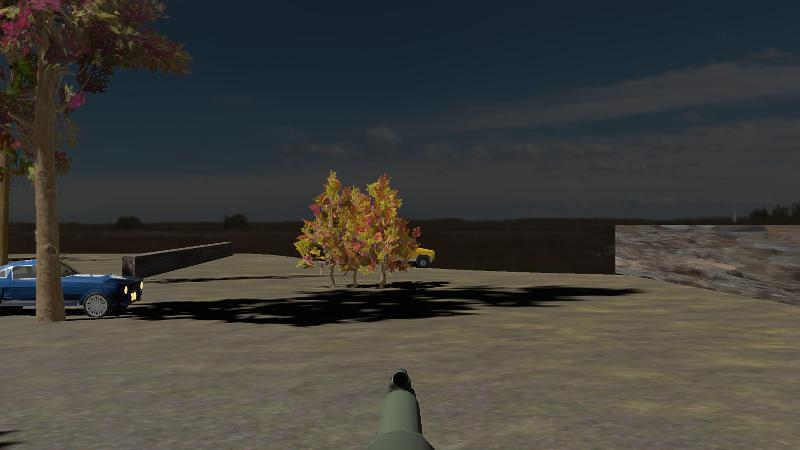car: (0, 252, 145, 320), (405, 241, 437, 270)
